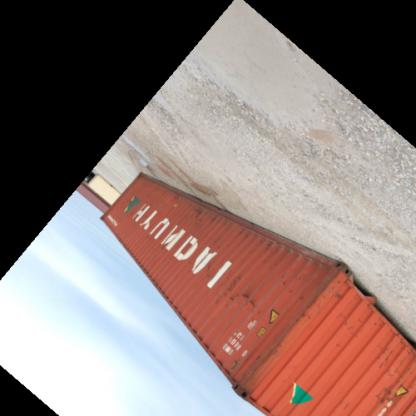Damage: (290, 277, 358, 345), (226, 348, 282, 398), (214, 276, 262, 326), (366, 352, 400, 408), (180, 205, 223, 237)
